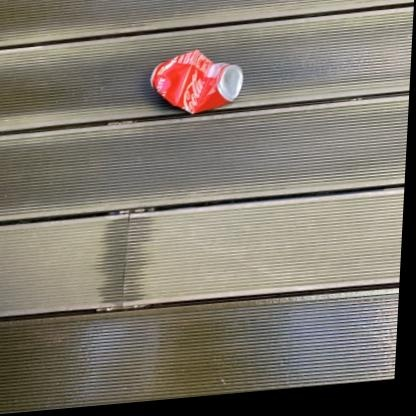trash: (151, 50, 242, 113)
